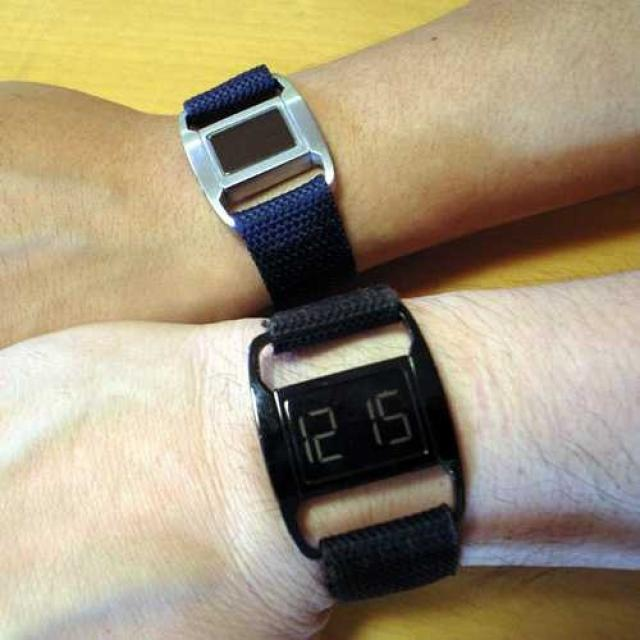watch: (240, 359, 458, 527)
